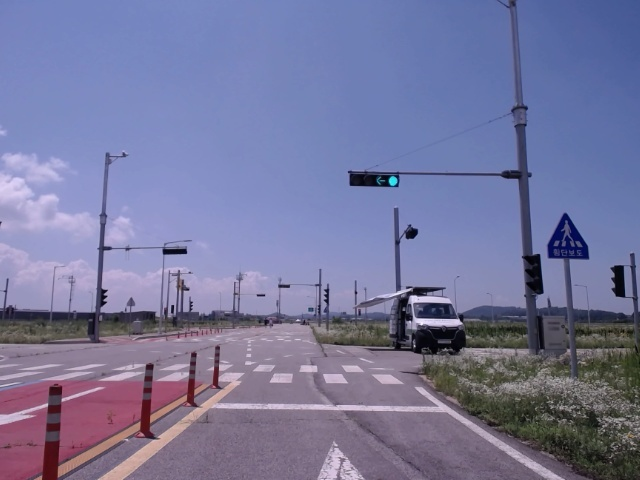all_green_4: (348, 171, 401, 188)
